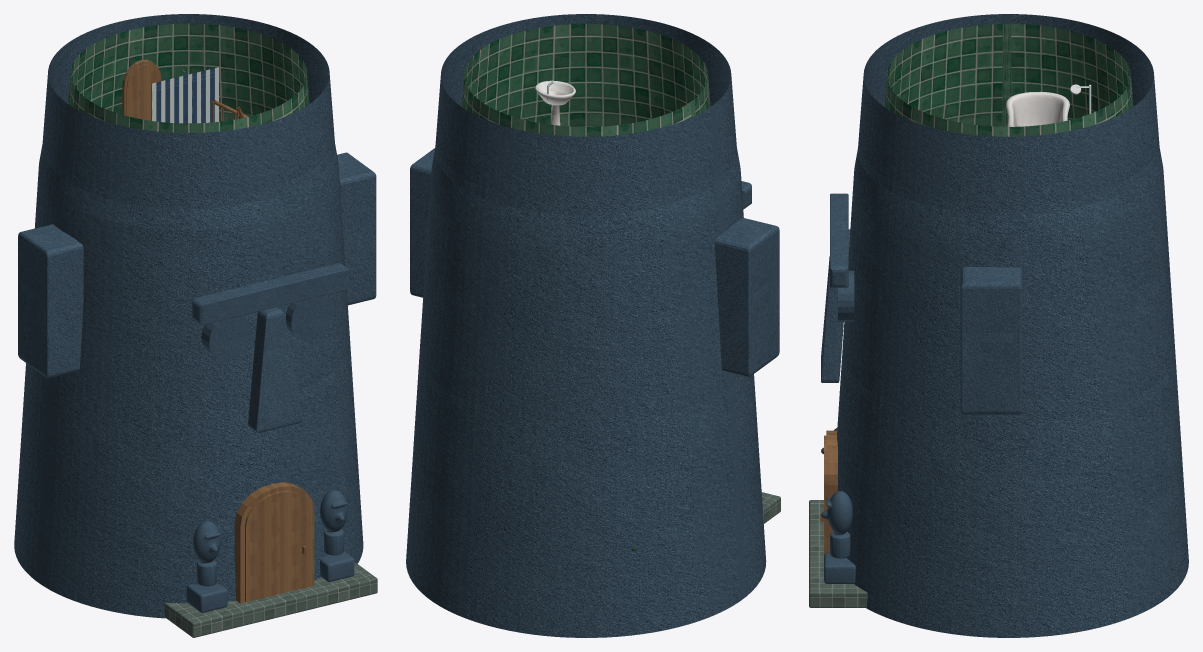
The model's file is squidward-house-web.glb.
The picture shows the model from 3 angles, left to right: view 1: azimuth 30°, elevation 25°; view 2: azimuth 150°, elevation 25°; view 3: azimuth 270°, elevation 25°; orthographic projection. The views are drawn at different scales.
Parts seen in each view (by area): view 1: shell_cutaway_cover, shell_main, shell_ear_L, door_panel, entrance_stone_porch, shell_nose, shell_ear_R, entrance_batch_14, shell_eyebrow, bath_batch_25, door_frame, bath_batch_38 (+2 smaller); view 2: shell_main, shell_ear_L, shell_cutaway_cover, shell_ear_R, bath_batch_31; view 3: shell_main, shell_ear_R, shell_cutaway_cover, entrance_stone_porch, entrance_batch_14, bath_batch_31, shell_eyebrow, shell_nose, door_frame, shell_porthole_R.
Part boxes in pixels (<box>): shell_cutaway_cover: <box>65,109,259,618</box>; shell_main: <box>14,14,363,596</box>; shell_ear_L: <box>18,224,83,378</box>; door_panel: <box>245,490,310,602</box>; entrance_stone_porch: <box>164,562,377,637</box>; shell_nose: <box>248,307,302,432</box>; shell_ear_R: <box>337,152,376,305</box>; entrance_batch_14: <box>186,490,354,612</box>; shell_eyebrow: <box>192,263,349,324</box>; bath_batch_25: <box>151,67,219,123</box>; door_frame: <box>234,482,314,603</box>; bath_batch_38: <box>122,59,161,120</box>; shell_main: <box>406,14,759,637</box>; shell_ear_L: <box>714,218,779,376</box>; shell_cutaway_cover: <box>656,25,766,580</box>; shell_ear_R: <box>410,148,434,297</box>; bath_batch_31: <box>535,80,575,125</box>; shell_main: <box>837,14,1188,637</box>; shell_ear_R: <box>960,267,1022,414</box>; shell_cutaway_cover: <box>863,16,977,124</box>; entrance_stone_porch: <box>809,500,867,607</box>; entrance_batch_14: <box>821,428,855,583</box>; bath_batch_31: <box>1006,91,1069,126</box>; shell_eyebrow: <box>830,193,848,287</box>; shell_nose: <box>821,256,843,382</box>; door_frame: <box>826,430,837,553</box>; shell_porthole_R: <box>838,270,854,321</box>.
Size of the model in its own units: 3.38 by 4.62 by 3.27.
Materials: 35 (16 with a texture image).
